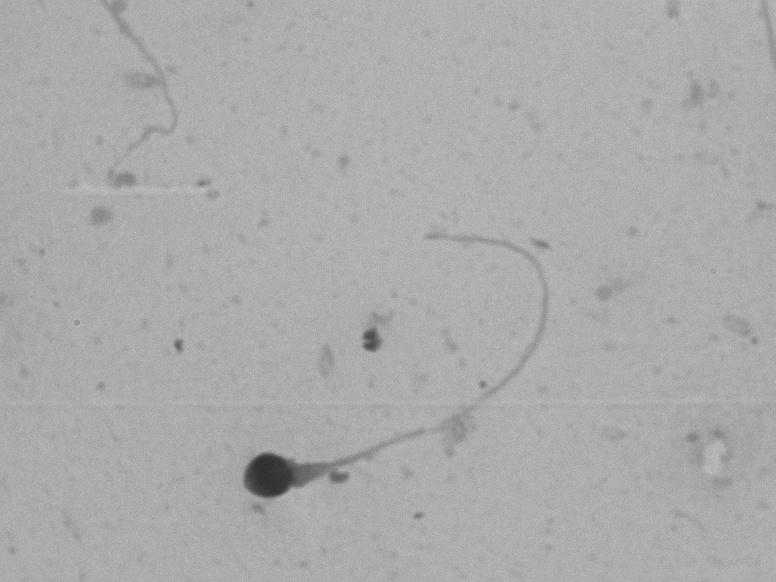Abnormal: (212, 211, 585, 546)
